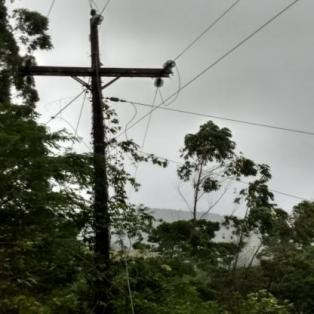Poste: (84, 9, 115, 260)
